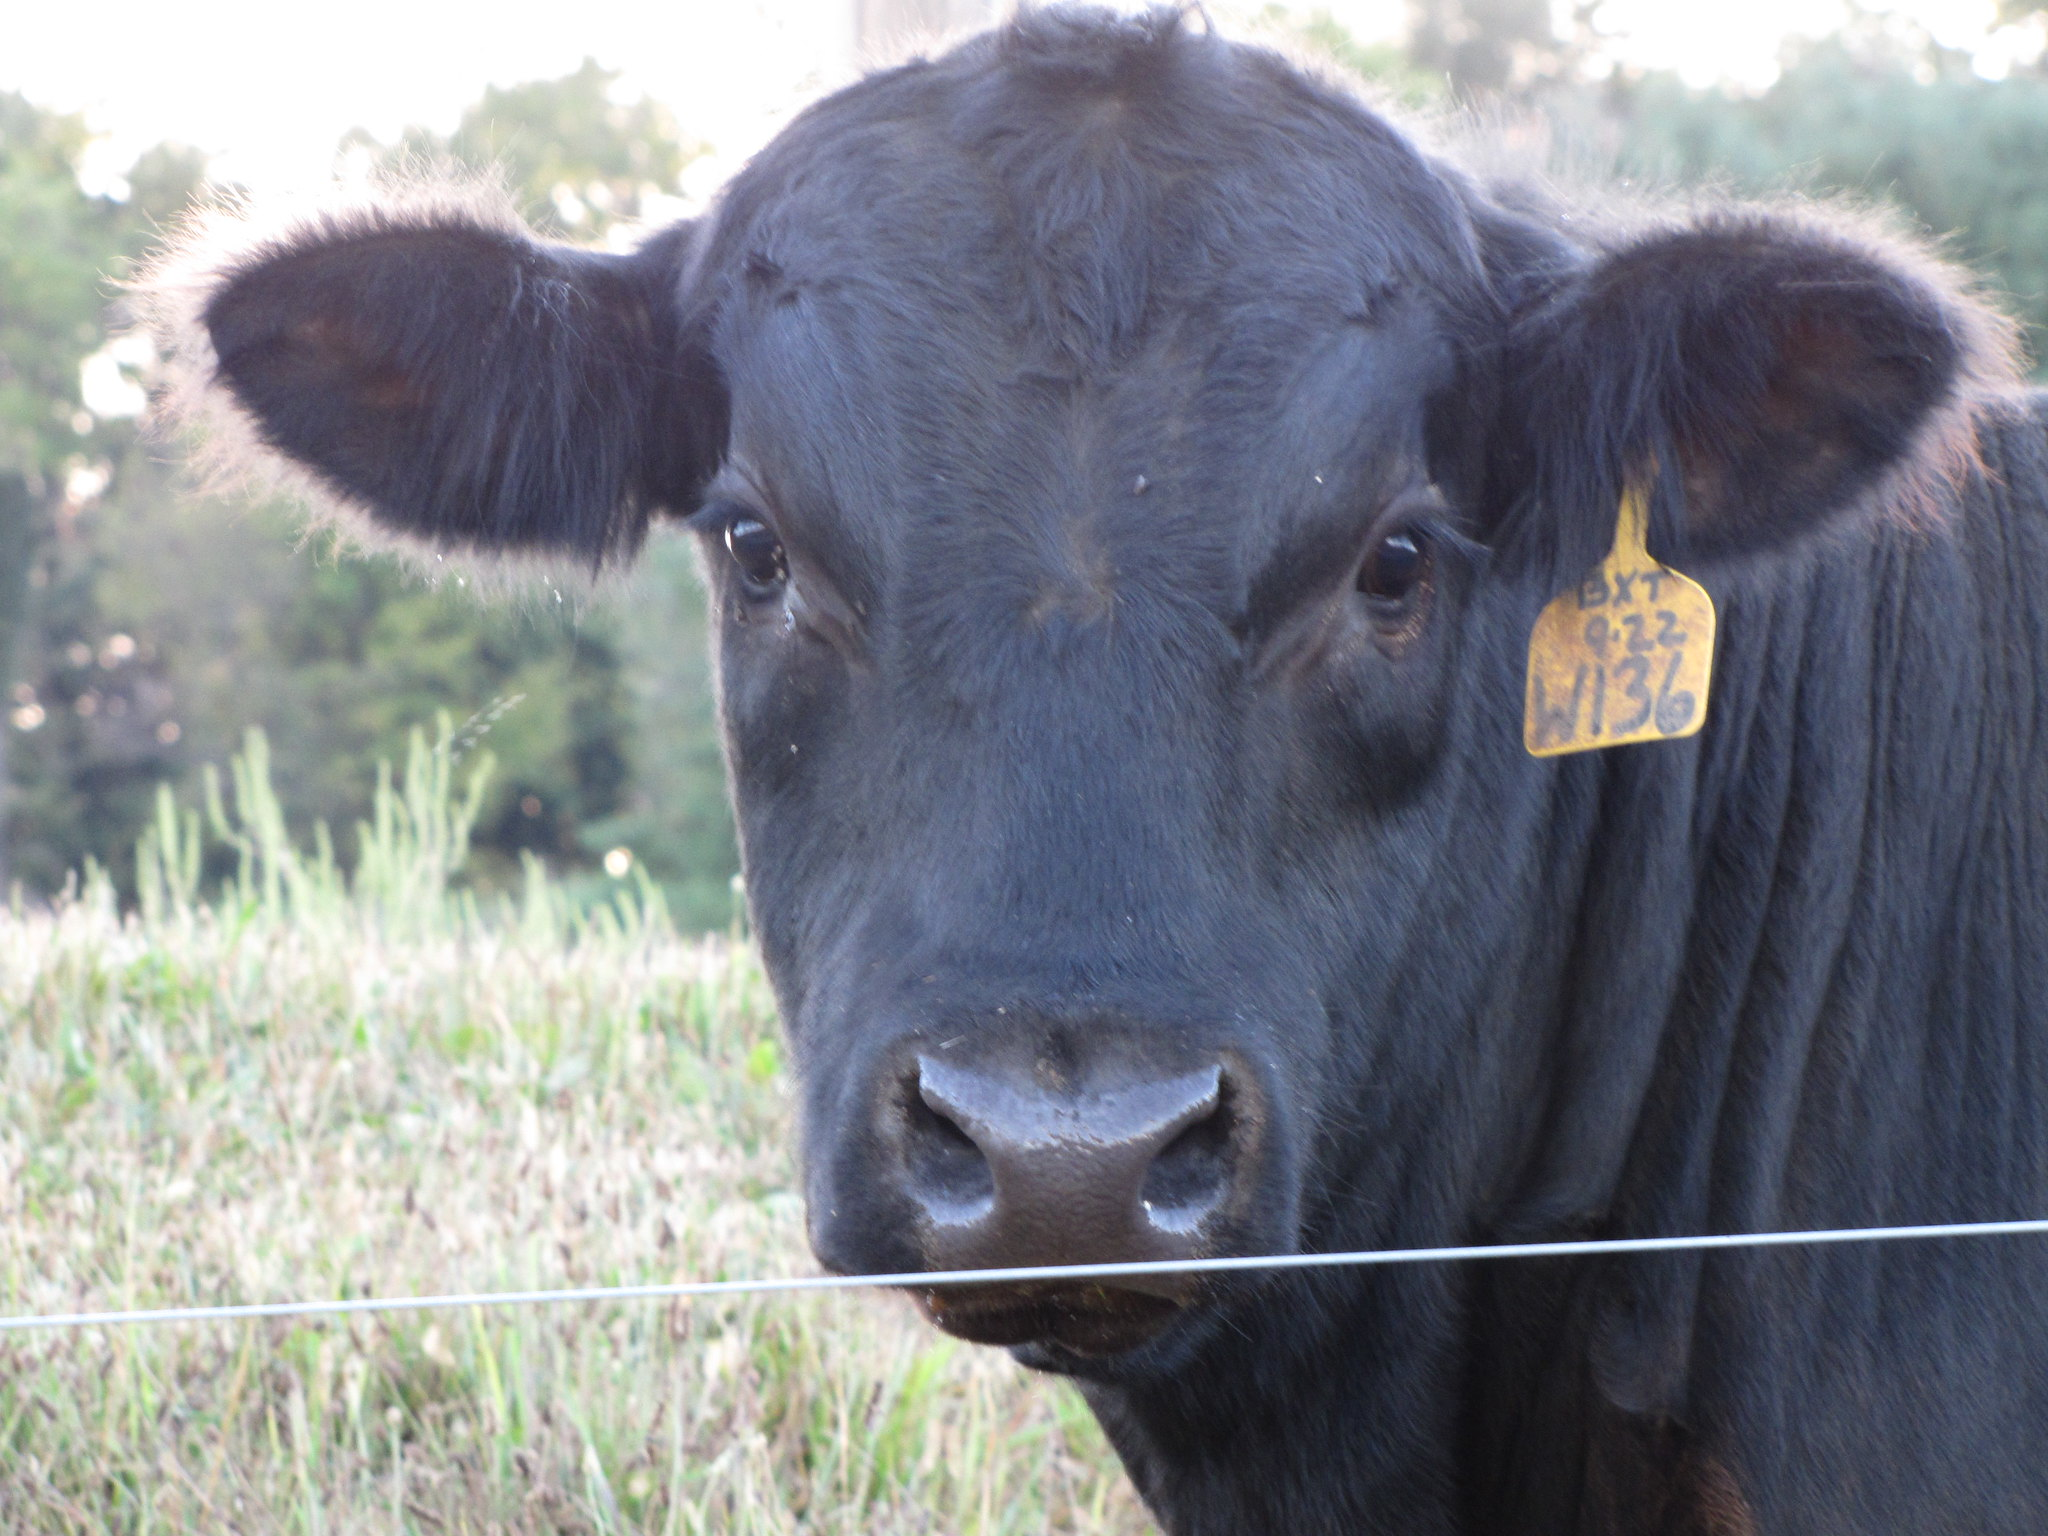cow: (231, 15, 2048, 1512)
